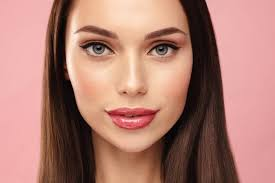face: (74, 23, 192, 136)
